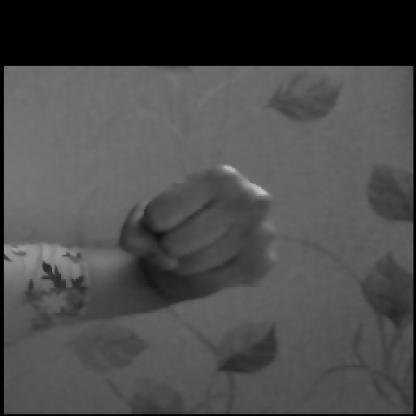fist: (65, 137, 313, 331)
